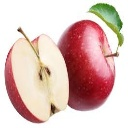apple: (4, 34, 70, 123)
